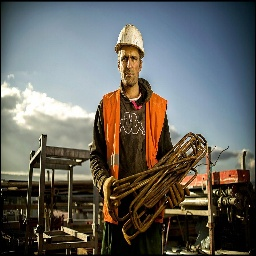helmet: (116, 24, 144, 50)
person: (91, 21, 177, 256)
